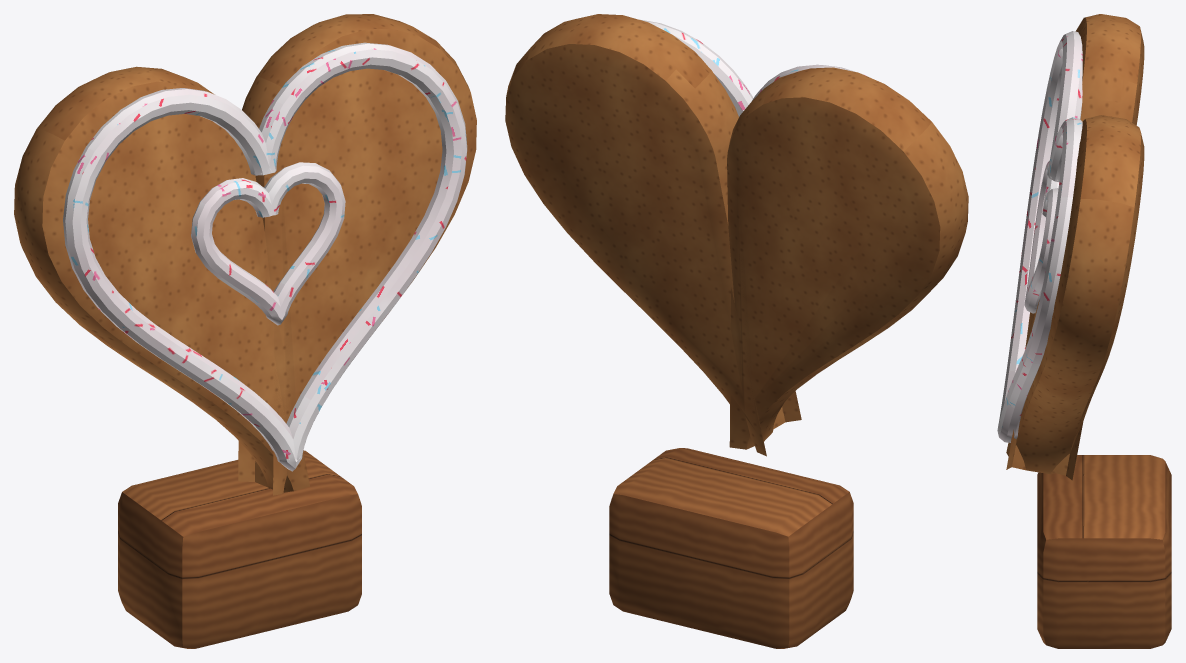
The model's file is GIN_HeartCookie.fbx.
The picture shows the model from 3 angles, left to right: view 1: azimuth 30°, elevation 25°; view 2: azimuth 150°, elevation 25°; view 3: azimuth 270°, elevation 25°; orthographic projection. The views are drawn at different scales.
Parts seen in each view (by area): view 1: GIN_HeartCookie; view 2: GIN_HeartCookie; view 3: GIN_HeartCookie.
Boxes of the visible parts, x1,y1,x2,y2 form: GIN_HeartCookie: (14,14,476,648); GIN_HeartCookie: (505,14,968,648); GIN_HeartCookie: (997,14,1171,648).
Size of the model in its own units: 1.17 by 1.41 by 0.415.
